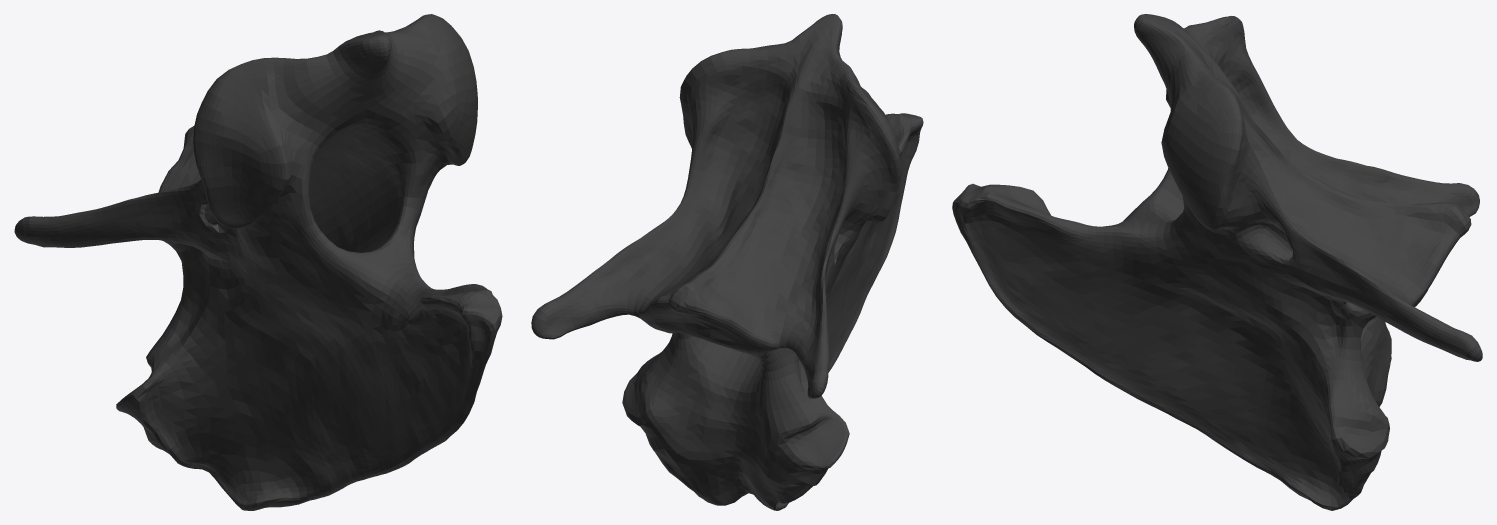
3 views of the same model, side by side, from view 1: azimuth 30°, elevation 25°; view 2: azimuth 150°, elevation 25°; view 3: azimuth 270°, elevation 25° (orthographic). The views are drawn at different scales.
Visible parts, largest first — view 1: c2_low; view 2: c2_low; view 3: c2_low.
Boxes of the visible parts, box(x1,y1,x2,y2) form: c2_low: box(14, 14, 502, 510); c2_low: box(531, 14, 923, 510); c2_low: box(952, 14, 1482, 510).
Bounding box in the file's own units: 45.7 × 64.93 × 65.37.
1 material, 1 textured.
